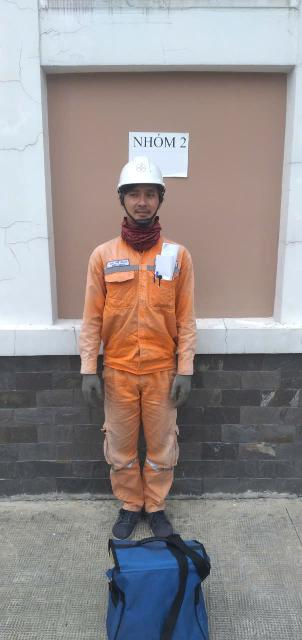gloves: (72, 365, 118, 426), (163, 366, 198, 408)
helmet: (111, 153, 175, 201)
shoes: (104, 494, 145, 544), (145, 506, 176, 548)
